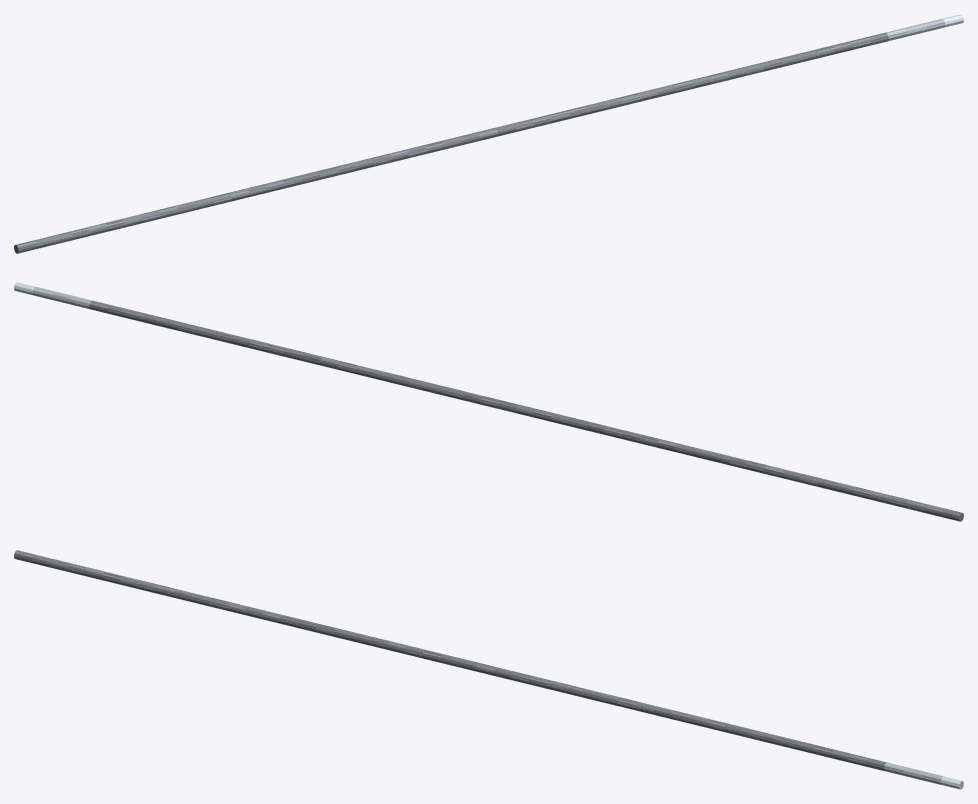
File: welding_rod_alloy.glb
3 views of the same model, one above another, from view 1: azimuth 30°, elevation 25°; view 2: azimuth 150°, elevation 25°; view 3: azimuth 330°, elevation 25° (orthographic).
Parts seen in each view (by area): view 1: block_flux coating, block_bare grip end; view 2: block_flux coating, block_bare grip end; view 3: block_flux coating, block_bare grip end.
Boxes of the visible parts, <box> form: block_flux coating: <box>16,32,888,253</box>; block_bare grip end: <box>886,14,963,41</box>; block_flux coating: <box>89,300,961,521</box>; block_bare grip end: <box>14,282,91,309</box>; block_flux coating: <box>14,550,886,771</box>; block_bare grip end: <box>884,762,963,789</box>.
Size of the model in its own units: 0.35 by 0.00285 by 0.003.
1 material, 1 textured.
